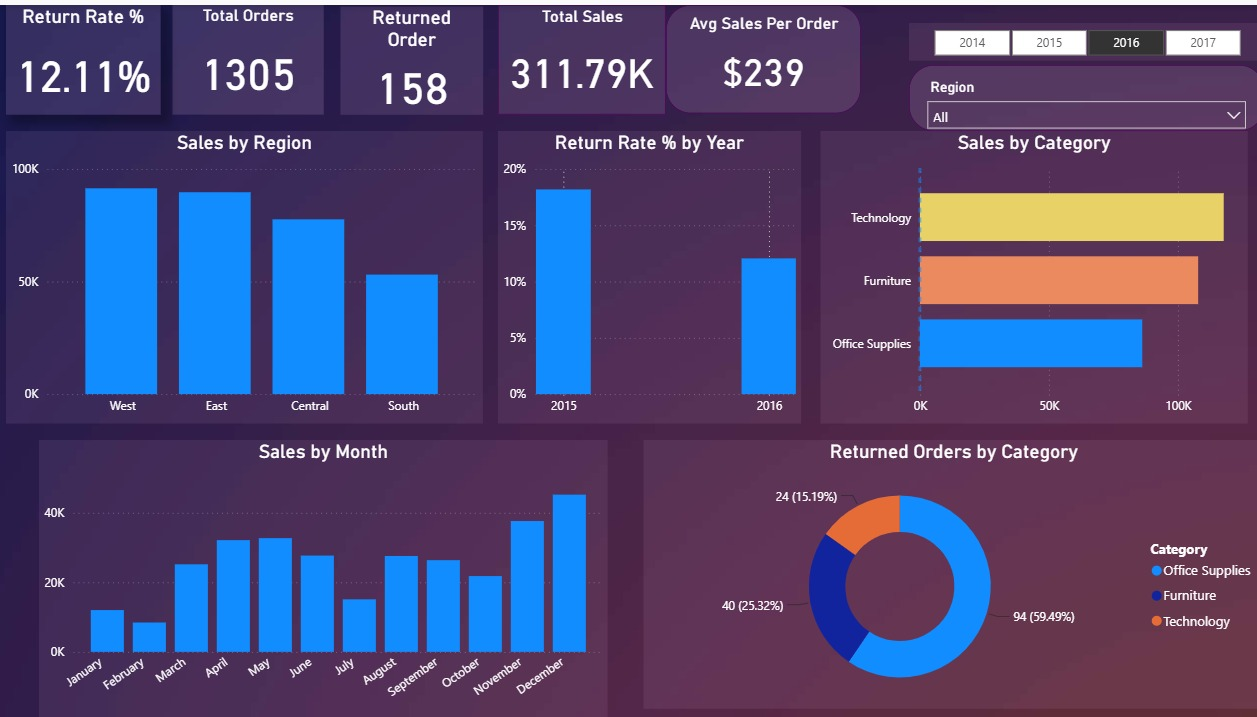

This screenshot's page, from the dashboard's own definition file:
{"tool":"powerbi","page":{"name":"Page 1","canvas":[1280,720],"ordinal":0},"visuals":[{"type":"card","title":"Return Rate %","fields":{"Values":["Orderall.Return Rate %"]},"box":[9.1,0,156,110.5],"z":0},{"type":"card","title":"Total Orders","fields":{"Values":["CalendarTable.Total Orders"]},"box":[177.2,0,152.9,110.5],"z":1000},{"type":"card","title":"Returned Order","fields":{"Values":["Returns.Returned Orders"]},"box":[346.8,1.5,143.8,109],"z":2000},{"type":"card","title":"Total Sales","fields":{"Values":["Sum(Orderall.Sales)"]},"box":[505.7,0,169.6,110.5],"z":3000},{"type":"card","title":"Avg Sales Per Order","fields":{"Values":["CalendarTable.Avg Sales per Order"]},"box":[675.3,0,196.8,109],"z":4000},{"type":"clusteredColumnChart","fields":{"Category":["DateTable.Year"],"Y":["Orderall.Return Rate %"]},"box":[505.7,127.2,305.9,295.3],"z":5000},{"type":"clusteredColumnChart","title":"Sales by Month","fields":{"Category":["Orderall.Ship Date.Variation.Date Hierarchy.Month"],"Y":["Sum(Orderall.Sales)"]},"box":[42.9,439,574.2,281.5],"z":6000},{"type":"clusteredBarChart","title":"Sales by Category","fields":{"Category":["Orderall.Category"],"Y":["Sum(Orderall.Sales)"]},"box":[831.3,127.2,431.5,295.3],"z":7000},{"type":"clusteredColumnChart","title":" Sales by Region","fields":{"Category":["Orderall.Region"],"Y":["Sum(Orderall.Sales)"]},"box":[9.1,127.2,481.5,295.3],"z":8000},{"type":"donutChart","fields":{"Category":["Orderall.Category"],"Y":["Returns.Returned Orders"]},"box":[652.6,439.1,626.9,271],"z":9000},{"type":"slicer","fields":{"Values":["Orderall.Ship Date.Variation.Date Hierarchy.Year"]},"box":[920.6,18.2,358.9,37.9],"z":10000},{"type":"slicer","fields":{"Values":["Orderall.Region"]},"box":[920.6,60.6,358.9,66.6],"z":11000}]}

Visuals, with their boxes in screenshot pixels (x1, y1, x2, y2), scaled from the page's 1280x720 canvas onto the 1257x717 screenshot:
"Return Rate %" card: pyautogui.locateOnScreen(9, 0, 162, 110)
"Total Orders" card: pyautogui.locateOnScreen(174, 0, 324, 110)
"Returned Order" card: pyautogui.locateOnScreen(341, 1, 482, 110)
"Total Sales" card: pyautogui.locateOnScreen(497, 0, 663, 110)
"Avg Sales Per Order" card: pyautogui.locateOnScreen(663, 0, 856, 109)
clusteredColumnChart - DateTable.Year x Orderall.Return Rate %: pyautogui.locateOnScreen(497, 127, 797, 421)
"Sales by Month" clusteredColumnChart: pyautogui.locateOnScreen(42, 437, 606, 716)
"Sales by Category" clusteredBarChart: pyautogui.locateOnScreen(816, 127, 1240, 421)
" Sales by Region" clusteredColumnChart: pyautogui.locateOnScreen(9, 127, 482, 421)
donutChart - Orderall.Category x Returns.Returned Orders: pyautogui.locateOnScreen(641, 437, 1256, 707)
slicer - Orderall.Ship Date.Variation.Date Hierarchy.Year: pyautogui.locateOnScreen(904, 18, 1256, 56)
slicer - Orderall.Region: pyautogui.locateOnScreen(904, 60, 1256, 127)
